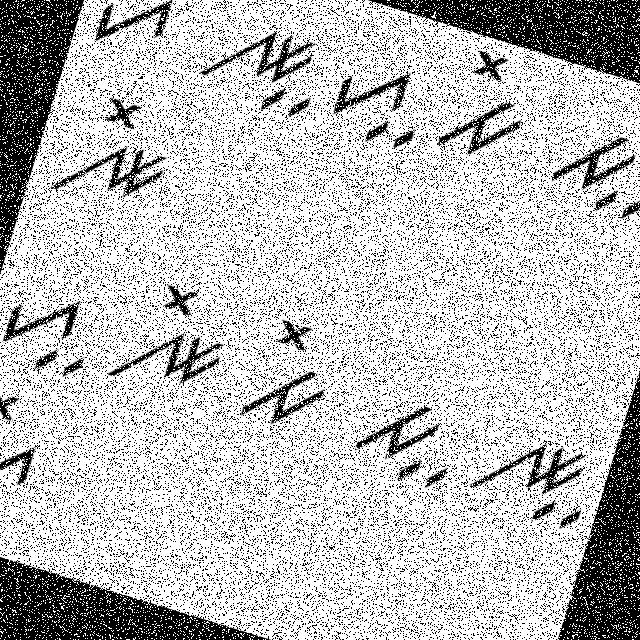hah: (0, 263, 110, 390), (316, 52, 433, 161)
ho: (0, 378, 61, 521), (81, 0, 197, 67)
mbah: (330, 366, 475, 502), (531, 108, 639, 231)
mbo: (223, 305, 346, 448), (432, 40, 545, 175)
ndah: (457, 409, 607, 536), (180, 0, 332, 124)
ndo: (39, 66, 189, 229), (92, 257, 245, 410)
